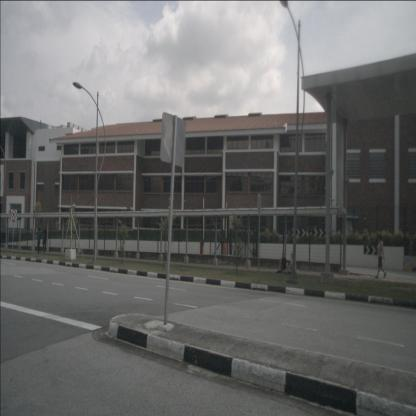human-pedestrian-adult: (374, 234, 386, 279), (280, 253, 297, 275), (276, 252, 288, 274), (35, 228, 41, 253), (42, 227, 47, 252)
